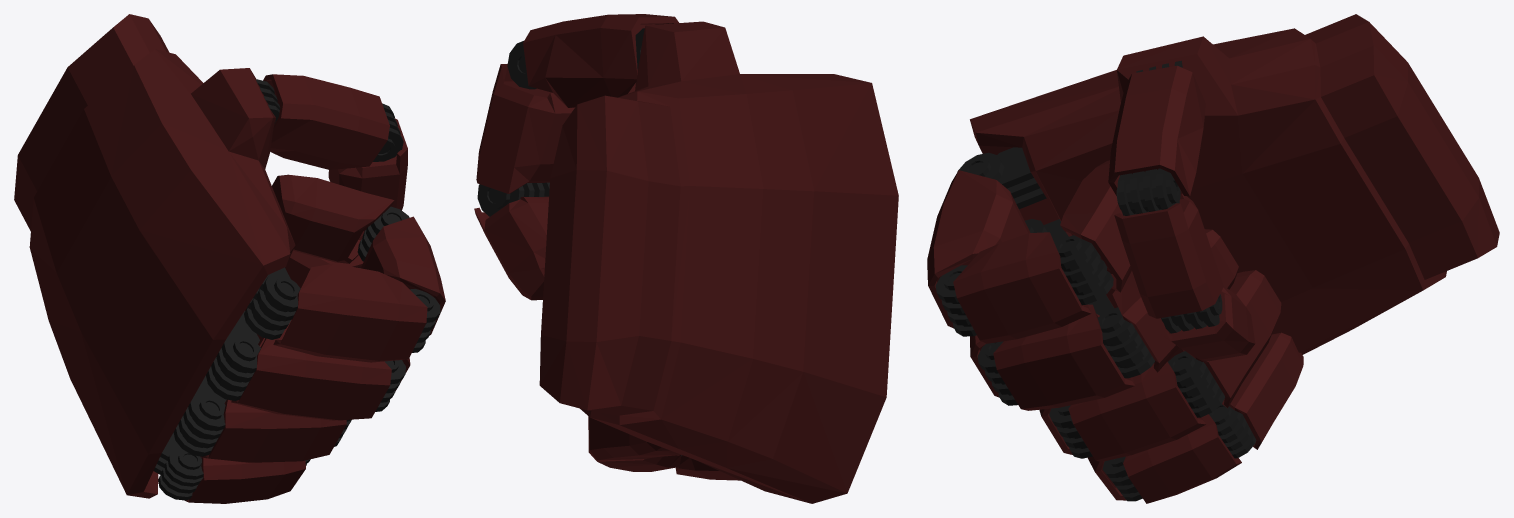
3 renders of one model, left to right at view 1: azimuth 30°, elevation 25°; view 2: azimuth 150°, elevation 25°; view 3: azimuth 270°, elevation 25°, orthographic. The views are drawn at different scales.
Parts seen in each view (by area): view 1: A2, A1; view 2: A2, A1; view 3: A2, A1.
Boxes of the visible parts, <box> form: A2: <box>14,14,445,503</box>; A1: <box>153,79,440,500</box>; A2: <box>474,14,898,503</box>; A1: <box>477,28,681,455</box>; A2: <box>927,14,1499,503</box>; A1: <box>935,60,1256,501</box>.
Bounding box in the file's own units: 1.32 × 1.75 × 2.
